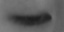LeftEyeFatigue: (4, 5, 58, 31)
